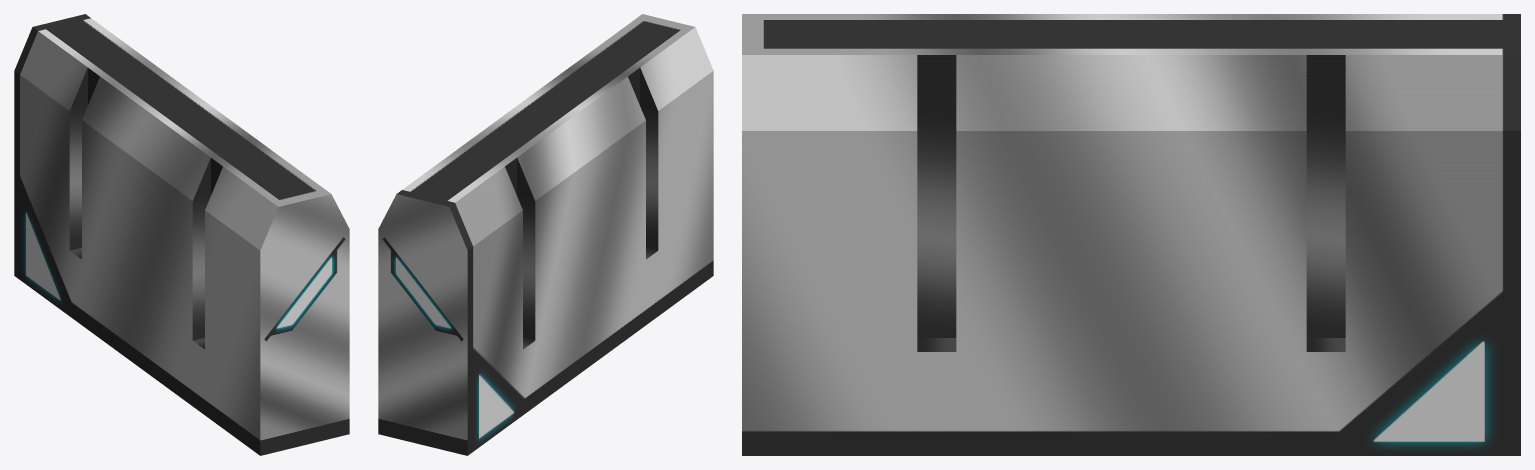
Rendered from memory.fbx.
The picture shows the model from 3 angles, left to right: view 1: azimuth 30°, elevation 25°; view 2: azimuth 150°, elevation 25°; view 3: azimuth 270°, elevation 25°; orthographic projection. The views are drawn at different scales.
Parts seen in each view (by area): view 1: polySurface21; view 2: polySurface21; view 3: polySurface21.
Part boxes in pixels (<box>): polySurface21: <box>14,14,349,455</box>; polySurface21: <box>378,14,713,455</box>; polySurface21: <box>742,14,1520,455</box>.
Size of the model in its own units: 0.7049 by 1.85 by 3.37.
1 material, 1 textured.
